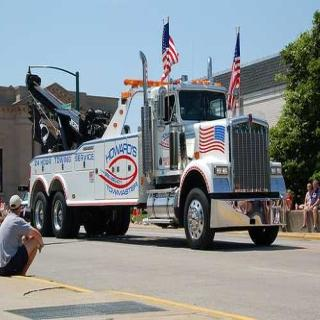Towing_truck: (24, 50, 286, 250)
